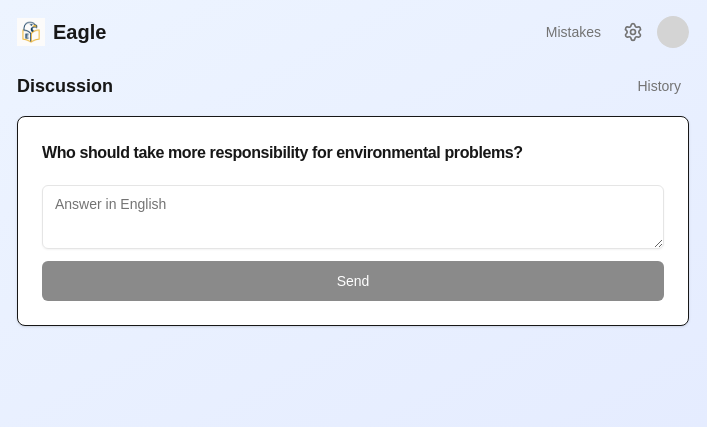
Scenario: DiscussionSession › appends the AI follow-up after sending an answer
Expected: the heading "Who should take more responsibility for environmental problems?" is shown, [42, 144, 523, 161]
Type "I think companies." into the text box named "Your answer" at (353, 217), box [42, 185, 664, 249]
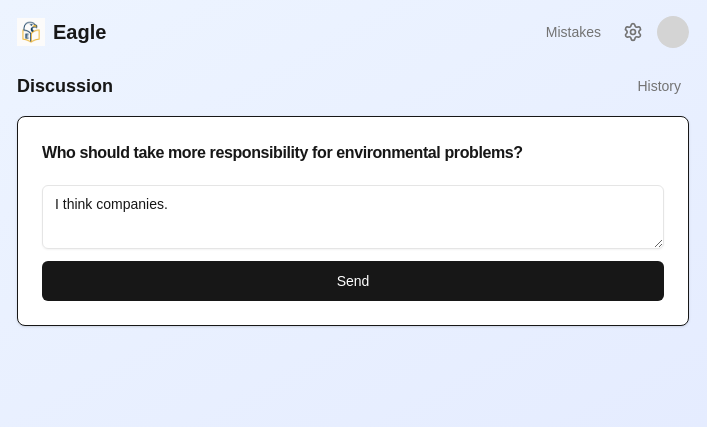
Click the button "Send" at (353, 281), box [42, 261, 664, 301]
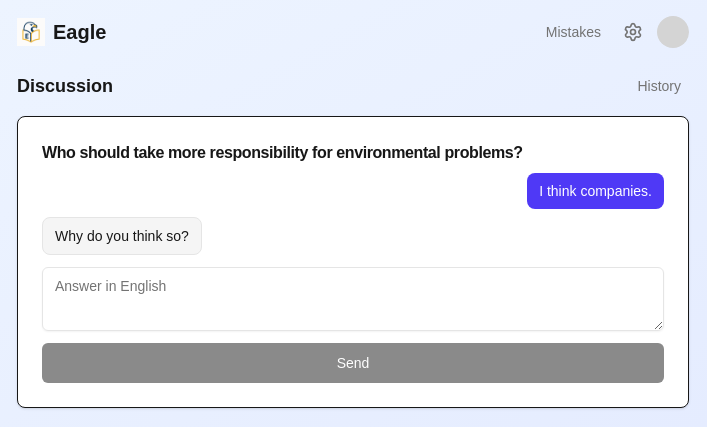
Expected: the text "Why do you think so?" is shown, [42, 217, 202, 255]
